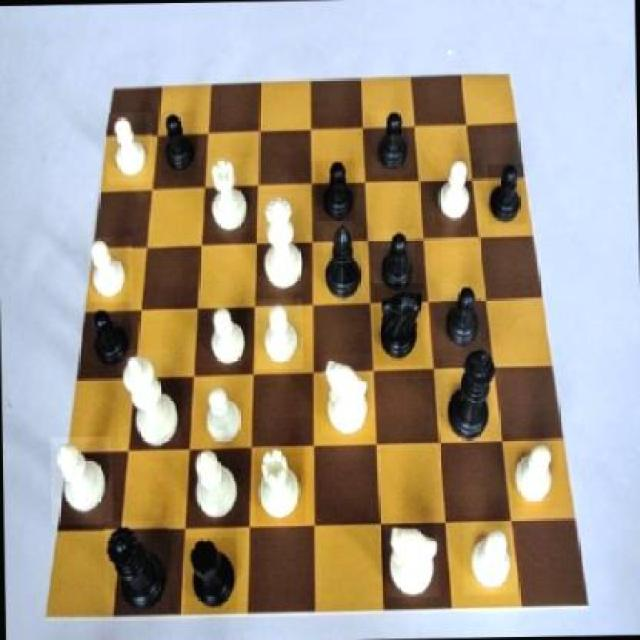bishop: (321, 225, 364, 300)
black-bishop: (443, 346, 500, 443)
black-king: (374, 283, 426, 366)
black-knight: (82, 302, 132, 368), (374, 229, 417, 299), (158, 111, 198, 180), (440, 283, 481, 350), (371, 110, 413, 174), (316, 158, 356, 221), (488, 163, 527, 224)
black-pawn: (105, 520, 169, 613)
black-queen: (185, 538, 238, 616)
black-rook: (51, 437, 113, 526), (192, 442, 242, 530)
white-bishop: (117, 349, 181, 453)
white-king: (320, 352, 374, 435), (385, 524, 440, 598)
white-knight: (463, 528, 517, 595), (200, 305, 253, 372), (106, 112, 153, 186), (255, 298, 303, 369), (511, 443, 558, 508), (201, 378, 244, 446), (89, 237, 134, 301), (434, 157, 474, 229)
white-pawn: (260, 194, 307, 294)
white-queen: (256, 446, 306, 524), (208, 157, 255, 233)
